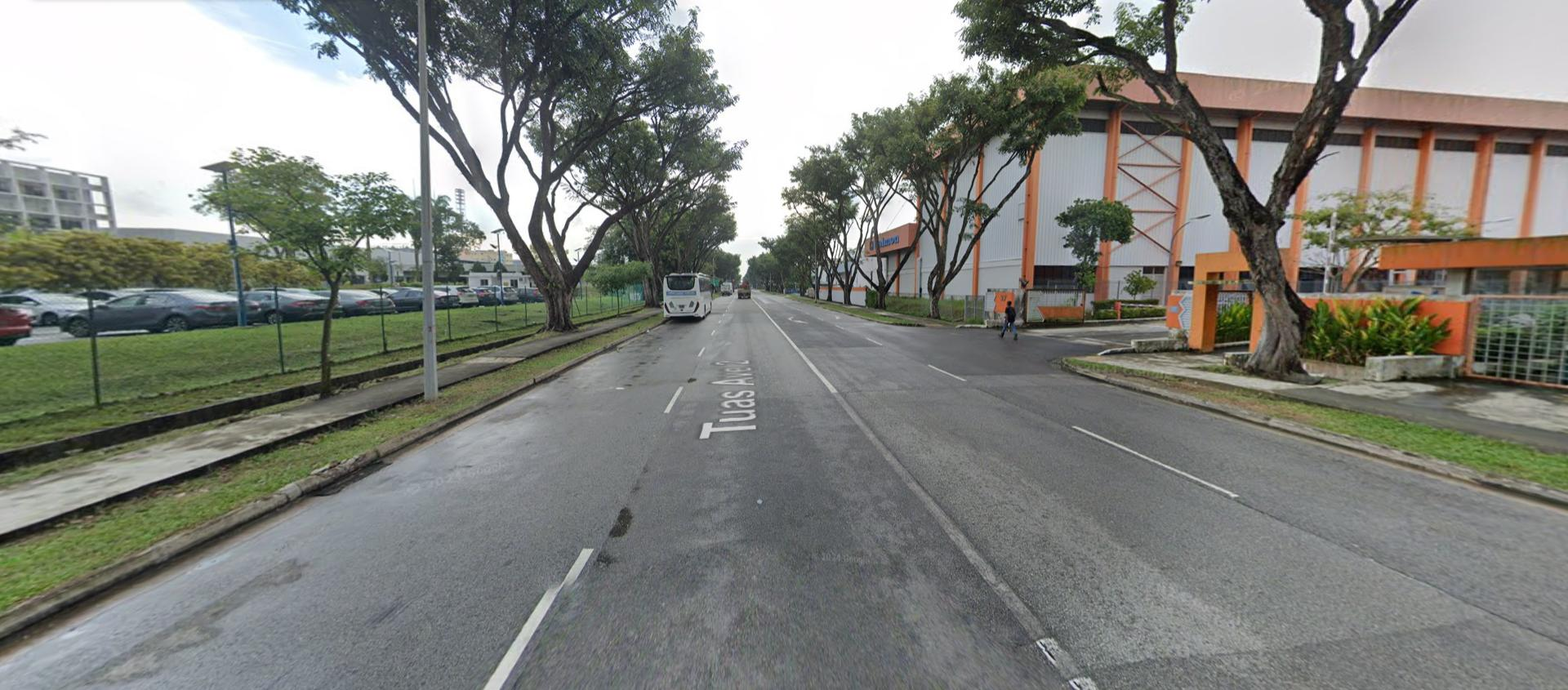normal: (312, 461, 395, 494)
